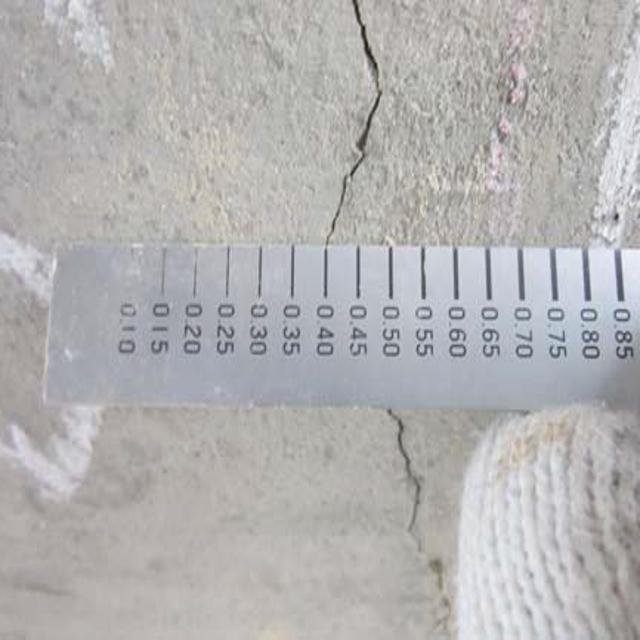crack: (311, 0, 416, 253), (373, 411, 458, 636)
